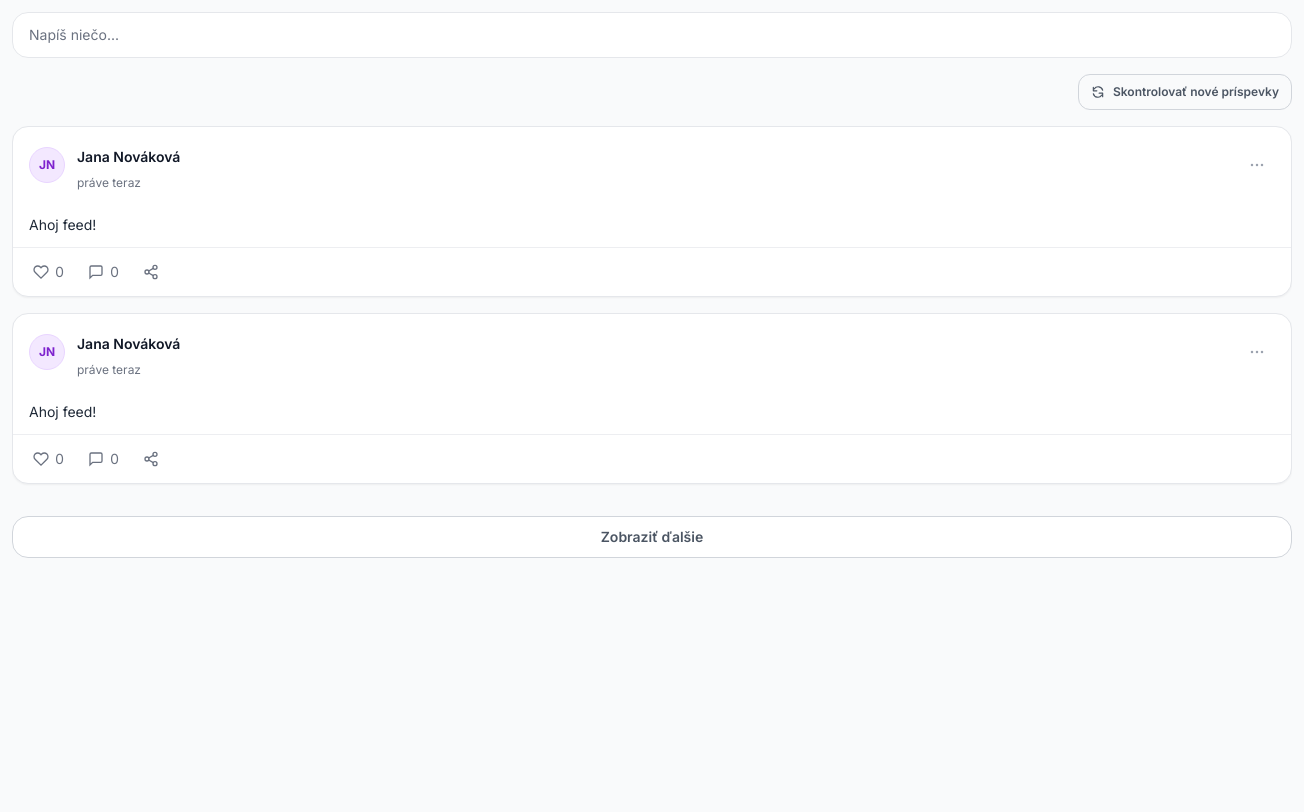
it: FeedList › deduplicates posts that overlap between pages
This screenshot has width=1304, height=812.
Expected: the number of elements with test id "feed-post-card" is 2, [12,126,1292,297]; [12,313,1292,484]
Click the button "Zobraziť ďalšie" at (652, 537), box [12,516,1292,558]
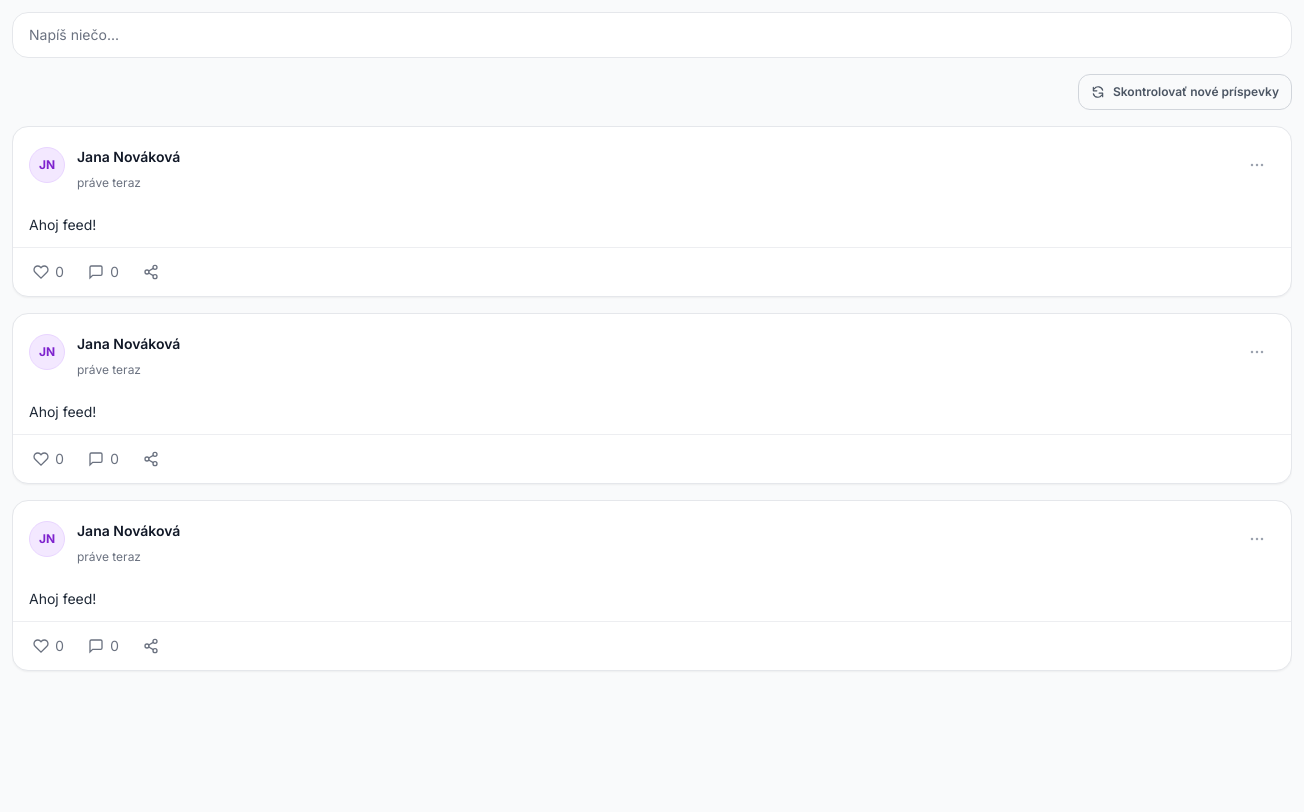
Now the number of elements with test id "feed-post-card" is 3, box [12,126,1292,297]; [12,313,1292,484]; [12,500,1292,671]
